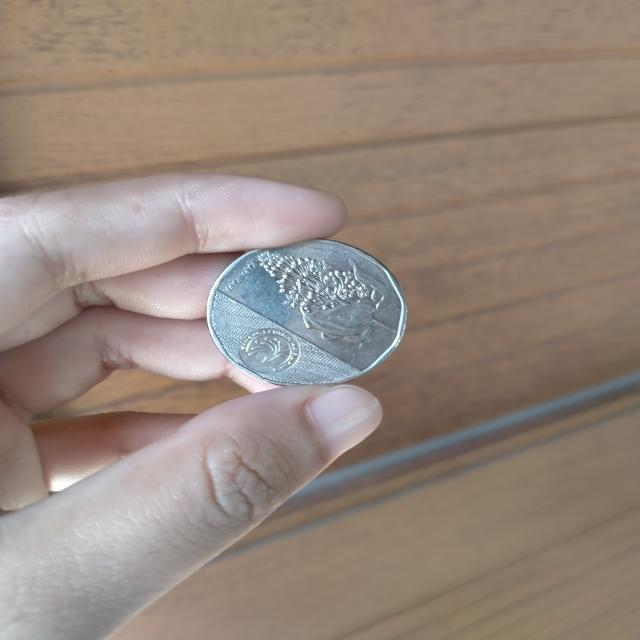10_New_Back: (237, 240, 401, 355)
